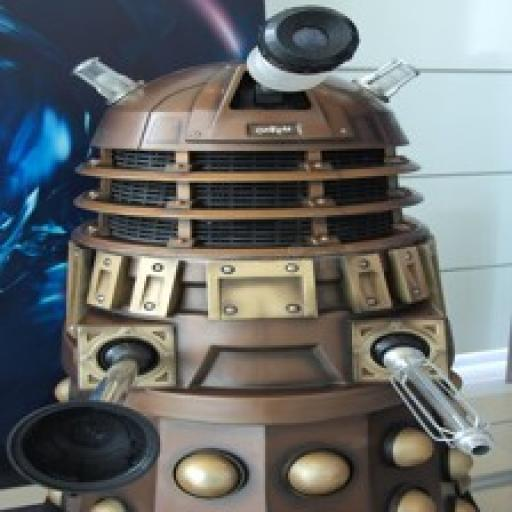dalek: (5, 3, 495, 512)
